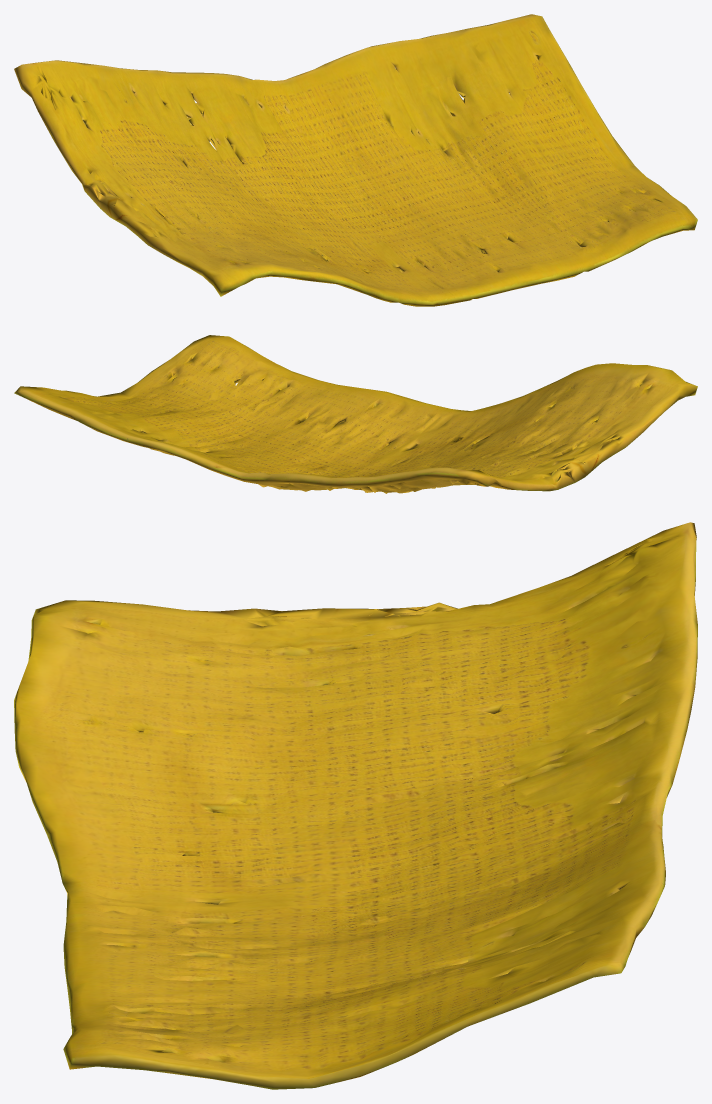
File: Rag.fbx
The picture shows the model from 3 angles, top to bottom: view 1: azimuth 30°, elevation 25°; view 2: azimuth 150°, elevation 25°; view 3: azimuth 270°, elevation 25°; orthographic projection. The views are drawn at different scales.
Visible parts, largest first — view 1: mesh1; view 2: mesh1; view 3: mesh1.
Part boxes in pixels (bbox=[...]): mesh1: bbox=[14, 14, 697, 306]; mesh1: bbox=[14, 335, 697, 493]; mesh1: bbox=[14, 522, 697, 1089].
Size of the model in its own units: 10.12 by 2.84 by 7.73.
Materials: 1 (1 with a texture image).
